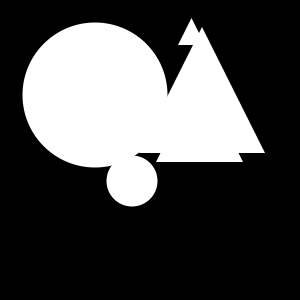rectangle: (22, 22, 168, 168), (106, 156, 158, 206)
triangle: (139, 27, 265, 153), (156, 75, 243, 162), (178, 18, 205, 45)
